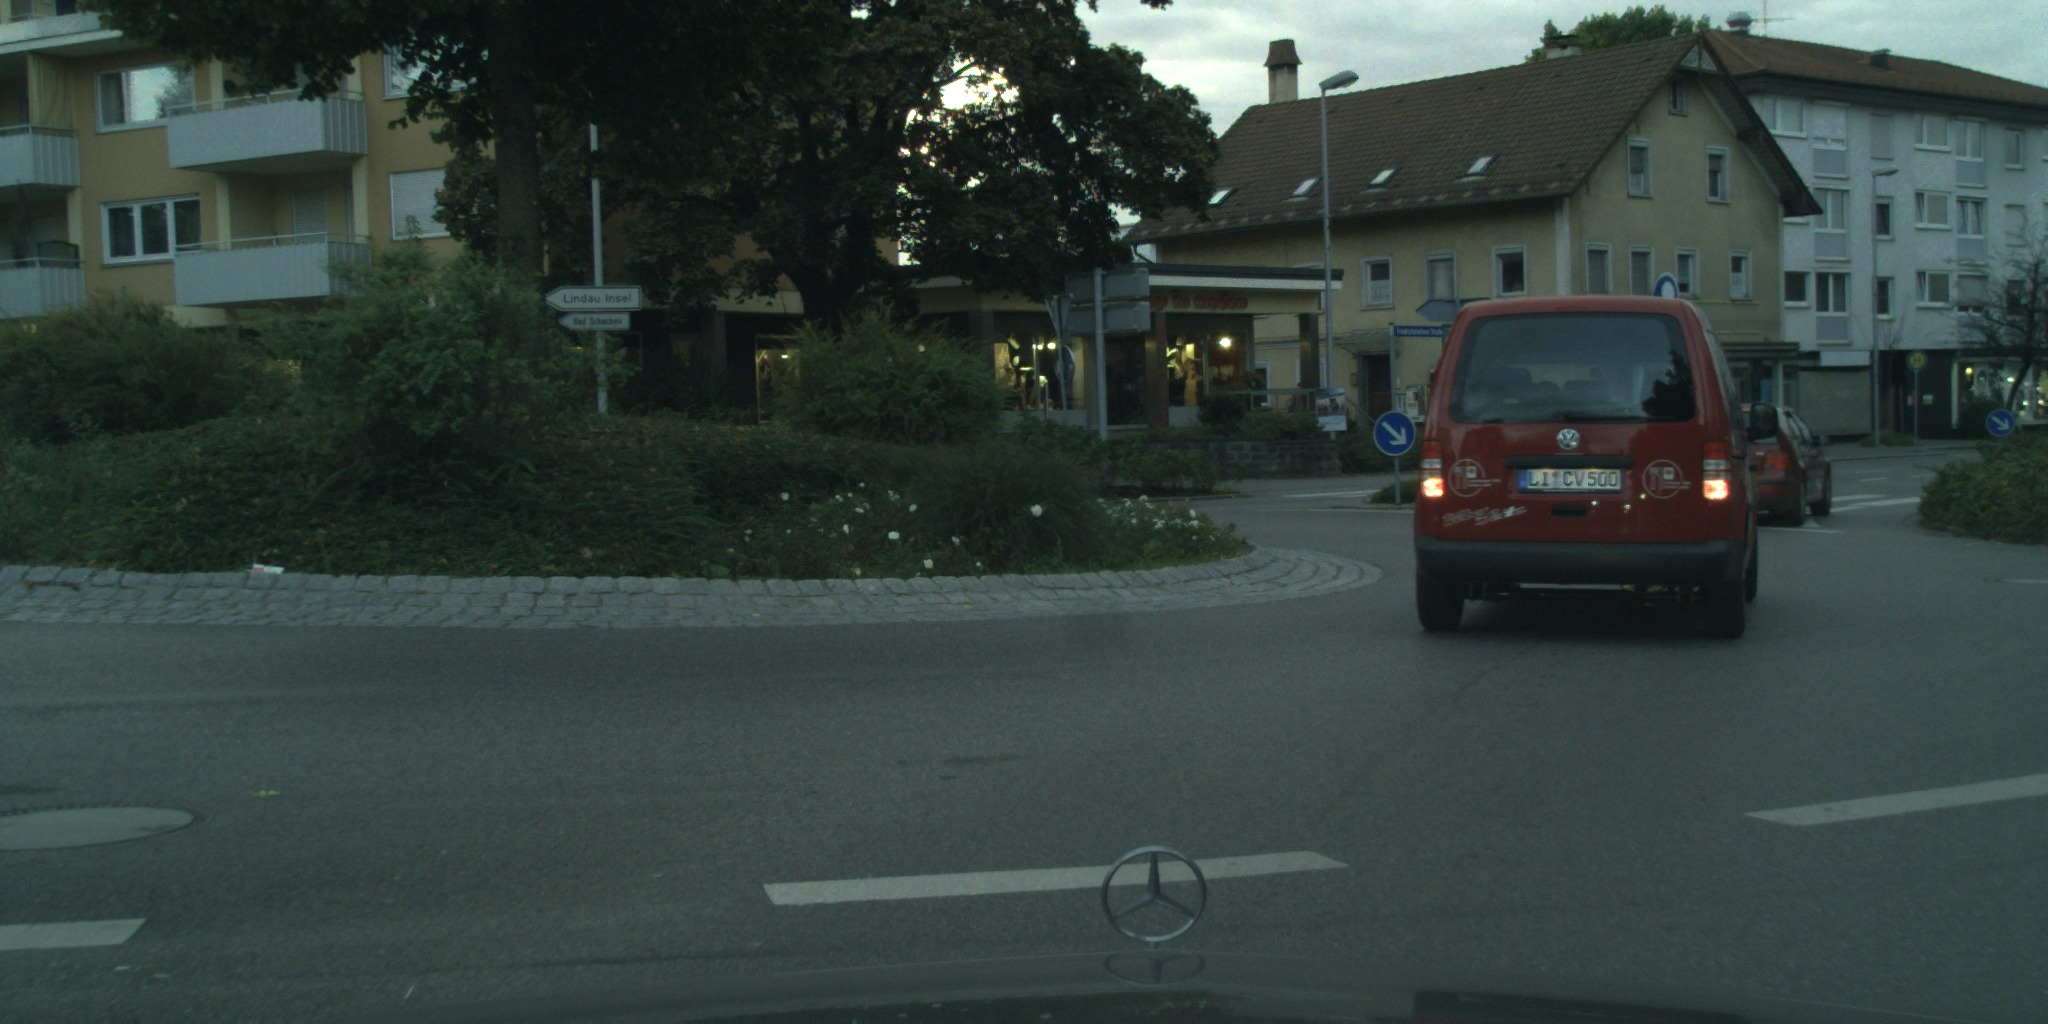car: (1415, 293, 1779, 639), (1721, 402, 1832, 529)
